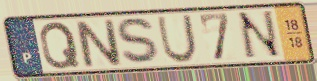7: (196, 11, 232, 63)
N: (72, 18, 126, 70), (235, 9, 284, 63)
Q: (38, 20, 83, 71)
S: (114, 15, 165, 67)
U: (155, 13, 200, 65)
